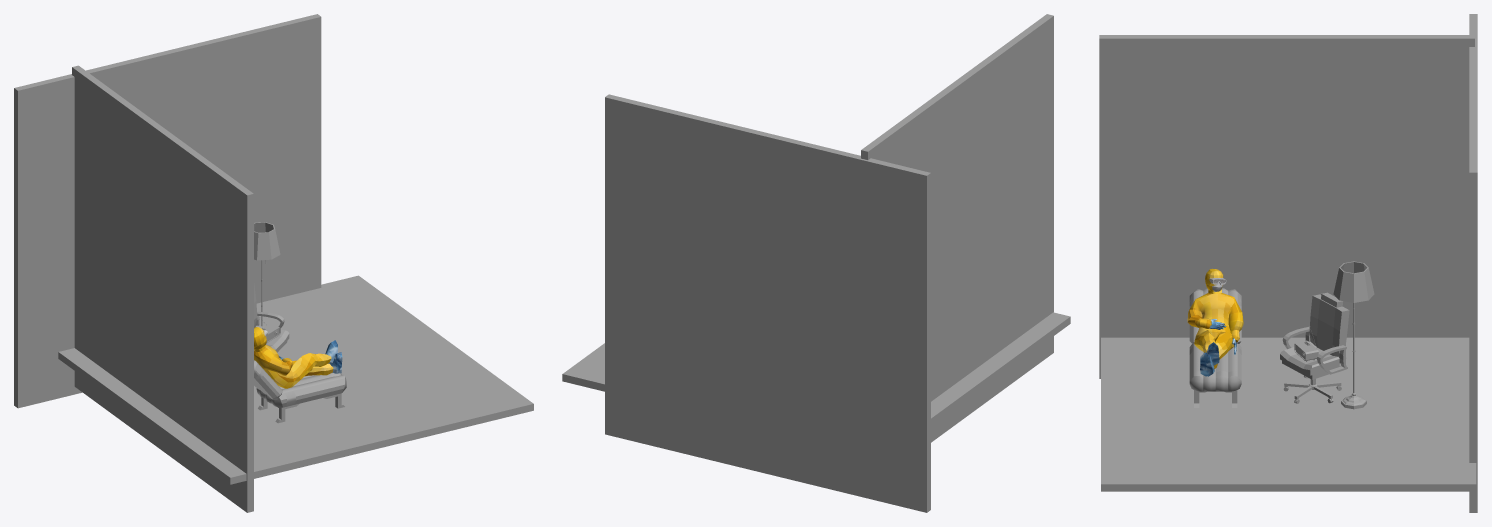
The model's file is StartScreen_02.fbx.
3 views of the same model, side by side, from view 1: azimuth 30°, elevation 25°; view 2: azimuth 150°, elevation 25°; view 3: azimuth 270°, elevation 25° (orthographic). The views are drawn at different scales.
Visible parts, largest first — view 1: pCube6, pCube7, pCube5, pasted__polySurface1, pasted__pCube2, lamp; view 2: pCube7, pCube6, pCube5; view 3: pCube6, pCube5, pCube7, pasted__polySurface1, polySurface11, pasted__pCube2, lamp, polySurface24.
Part boxes in pixels (x1,y1,x2,y2): pCube6: (72,65,253,512); pCube7: (14,14,321,408); pCube5: (58,275,533,484); pasted__polySurface1: (254,327,342,388); pasted__pCube2: (254,360,346,407); lamp: (254,222,280,326); pCube7: (605,94,930,512); pCube6: (861,14,1053,442); pCube5: (562,312,1070,425); pCube6: (1099,35,1474,378); pCube5: (1101,337,1476,491); pCube7: (1469,14,1477,512); pasted__polySurface1: (1187,268,1243,376); polySurface11: (1280,292,1349,379); pasted__pCube2: (1189,288,1241,391); lamp: (1333,261,1374,409); polySurface24: (1282,326,1347,403).
Bounding box in the file's own units: 5.17 × 4.67 × 4.59.
